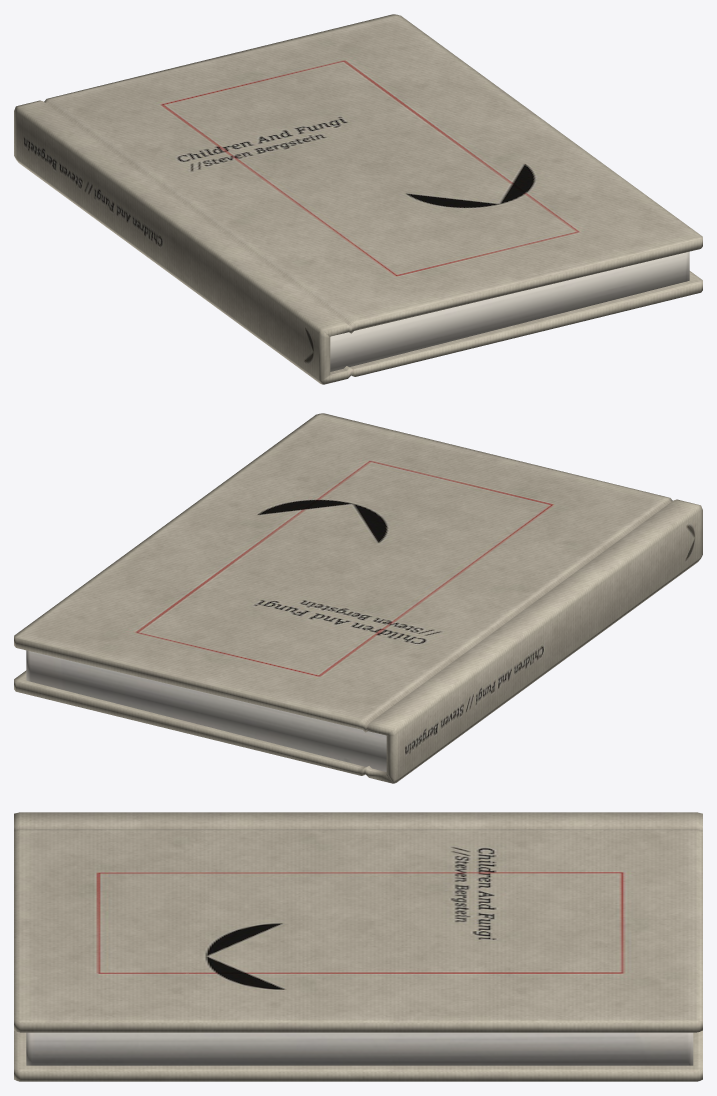
The model's file is book9.glb.
The picture shows the model from 3 angles, top to bottom: view 1: azimuth 30°, elevation 25°; view 2: azimuth 150°, elevation 25°; view 3: azimuth 270°, elevation 25°; orthographic projection. The views are drawn at different scales.
Visible parts, largest first — view 1: Cube.001; view 2: Cube.001; view 3: Cube.001.
Part boxes in pixels (x1,y1,x2,y2): Cube.001: (14,14,702,384); Cube.001: (14,413,702,783); Cube.001: (14,812,702,1081).
Size of the model in its own units: 144 by 20.09 by 200.
Materials: 1 (1 with a texture image).
